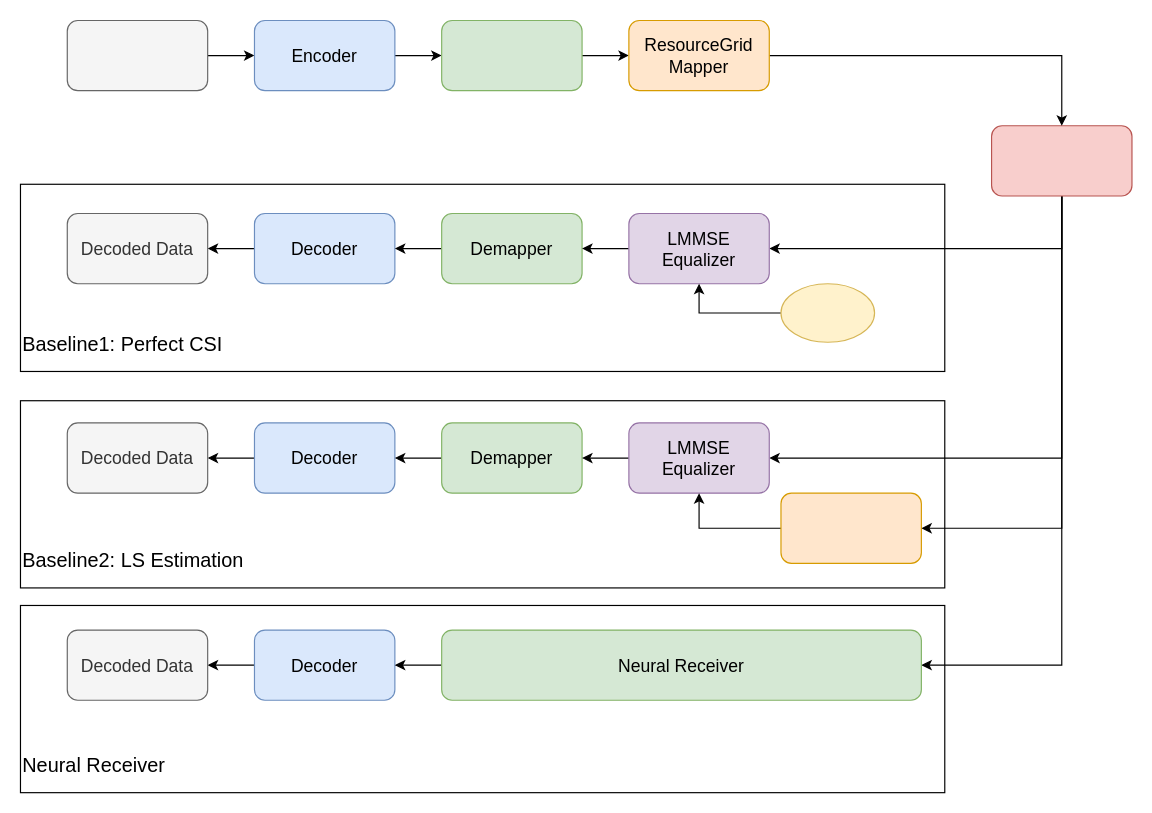
Image size: 1152x813. Some labels were removed from this diagram. Here are the shapes that lost their labels. From the top down, the centre of each, then its label:
At pixel 137 55: "Binary Source".
At pixel 511 55: "Mapper".
At pixel 1061 160: "3GPP CDL Channel".
At pixel 827 312: "Exact CSI".
At pixel 850 527: "LS Channel Estimation".
